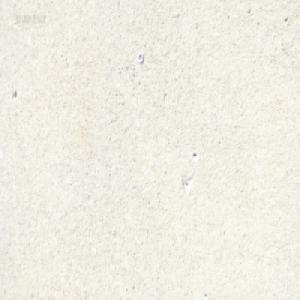Washer: (137, 52, 143, 63)
